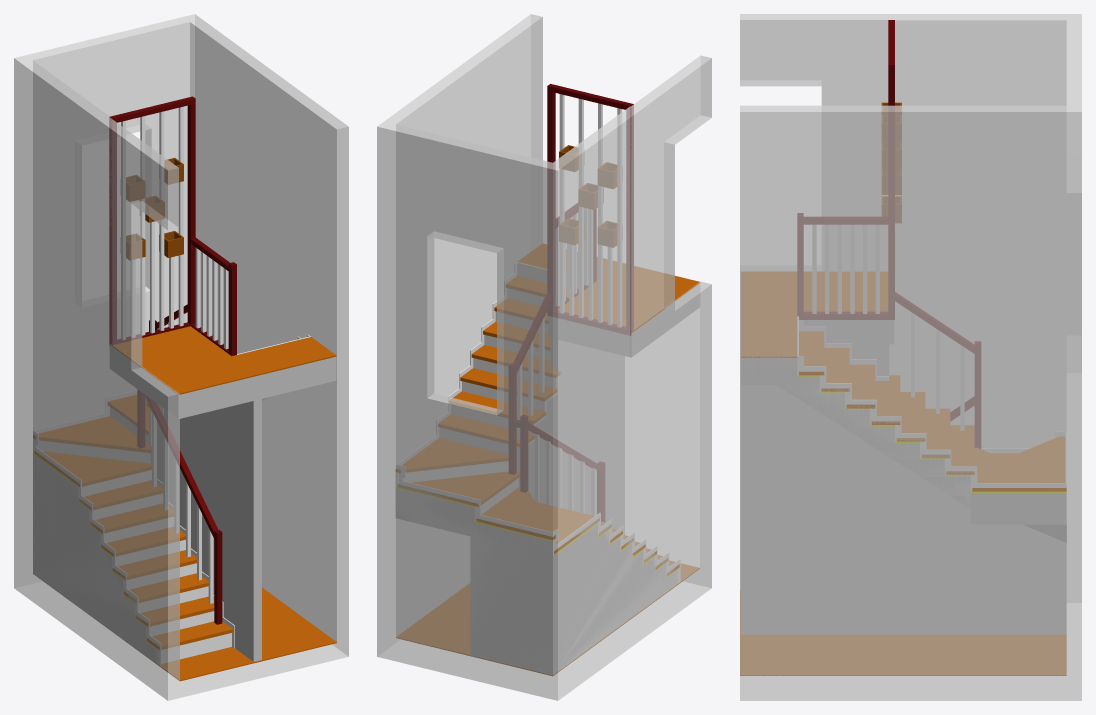
Rendered from Устрйство лестницы на бетонном основании.obj.
The picture shows the model from 3 angles, left to right: view 1: azimuth 30°, elevation 25°; view 2: azimuth 150°, elevation 25°; view 3: azimuth 270°, elevation 25°; orthographic projection. The views are drawn at different scales.
Size of the model in its own units: 2.28 by 6.38 by 3.35.
